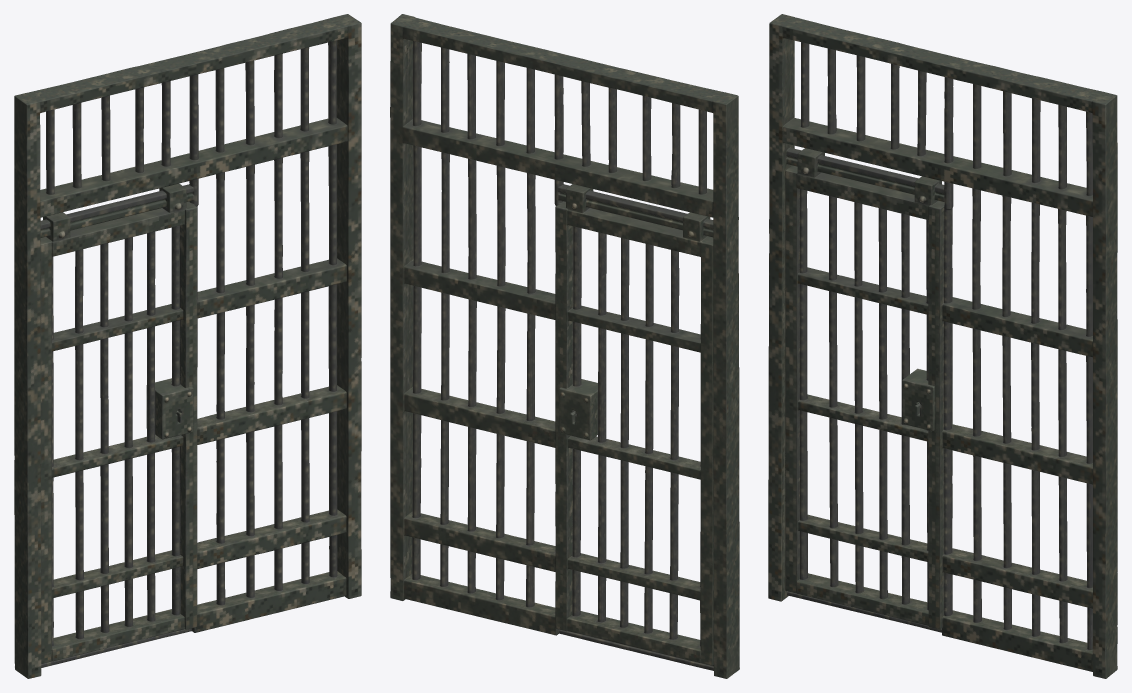
Rendered from Meshy_AI_model.glb.
3 views of the same model, side by side, from view 1: azimuth 30°, elevation 25°; view 2: azimuth 150°, elevation 25°; view 3: azimuth 330°, elevation 25° (orthographic).
Bounding box in the file's own units: 1.17 × 1.9 × 0.1046.
1 material, 1 textured.
